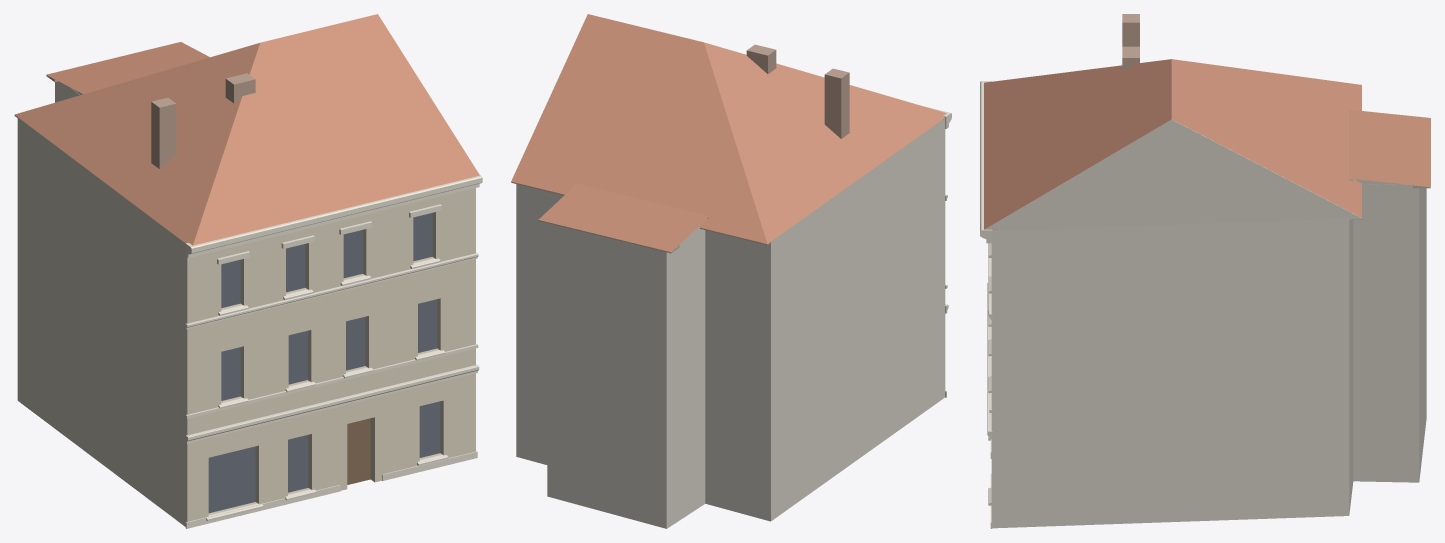
The picture shows the model from 3 angles, left to right: view 1: azimuth 30°, elevation 25°; view 2: azimuth 150°, elevation 25°; view 3: azimuth 270°, elevation 25°; orthographic projection. The views are drawn at different scales.
Visible parts, largest first — view 1: CP_415_Masonry, CP_415_Roof, CP_415_Cornice_main_0, CP_415_WingRoof_Stair, CP_415_Cornice_string_0, CP_415_Cornice_band_0, CP_415_Chimney_0, CP_415_Cornice_sill1_0, CP_415_Cornice_plinth_0, CP_415_Cornice_plinth_1, CP_415_Chimney_1; view 2: CP_415_Masonry, CP_415_Roof, CP_415_WingRoof_Stair, CP_415_Chimney_0, CP_415_Chimney_1; view 3: CP_415_Masonry, CP_415_Roof, CP_415_Gable_R_gable, CP_415_WingRoof_Stair, CP_415_Cornice_main_0, CP_415_Chimney_0.
Part boxes in pixels (x1=…): CP_415_Masonry: x1=17, y1=81, x2=475, y2=526; CP_415_Roof: x1=14, y1=14, x2=479, y2=245; CP_415_Cornice_main_0: x1=185, y1=174, x2=482, y2=257; CP_415_WingRoof_Stair: x1=46, y1=42, x2=209, y2=94; CP_415_Cornice_string_0: x1=185, y1=364, x2=479, y2=443; CP_415_Cornice_band_0: x1=185, y1=253, x2=478, y2=329; CP_415_Chimney_0: x1=151, y1=97, x2=176, y2=168; CP_415_Cornice_sill1_0: x1=185, y1=344, x2=478, y2=418; CP_415_Cornice_plinth_0: x1=185, y1=485, x2=340, y2=528; CP_415_Cornice_plinth_1: x1=382, y1=451, x2=477, y2=480; CP_415_Chimney_1: x1=225, y1=73, x2=255, y2=103; CP_415_Masonry: x1=516, y1=118, x2=945, y2=528; CP_415_Roof: x1=511, y1=14, x2=946, y2=243; CP_415_WingRoof_Stair: x1=538, y1=184, x2=709, y2=251; CP_415_Chimney_0: x1=824, y1=68, x2=849, y2=138; CP_415_Chimney_1: x1=746, y1=44, x2=776, y2=73; CP_415_Masonry: x1=991, y1=183, x2=1426, y2=528; CP_415_Roof: x1=984, y1=59, x2=1361, y2=229; CP_415_Gable_R_gable: x1=985, y1=119, x2=1361, y2=230; CP_415_WingRoof_Stair: x1=1349, y1=109, x2=1430, y2=186; CP_415_Cornice_main_0: x1=980, y1=81, x2=992, y2=243; CP_415_Chimney_0: x1=1122, y1=14, x2=1139, y2=46.
Size of the model in its own units: 12.14 by 15.3 by 15.52.
